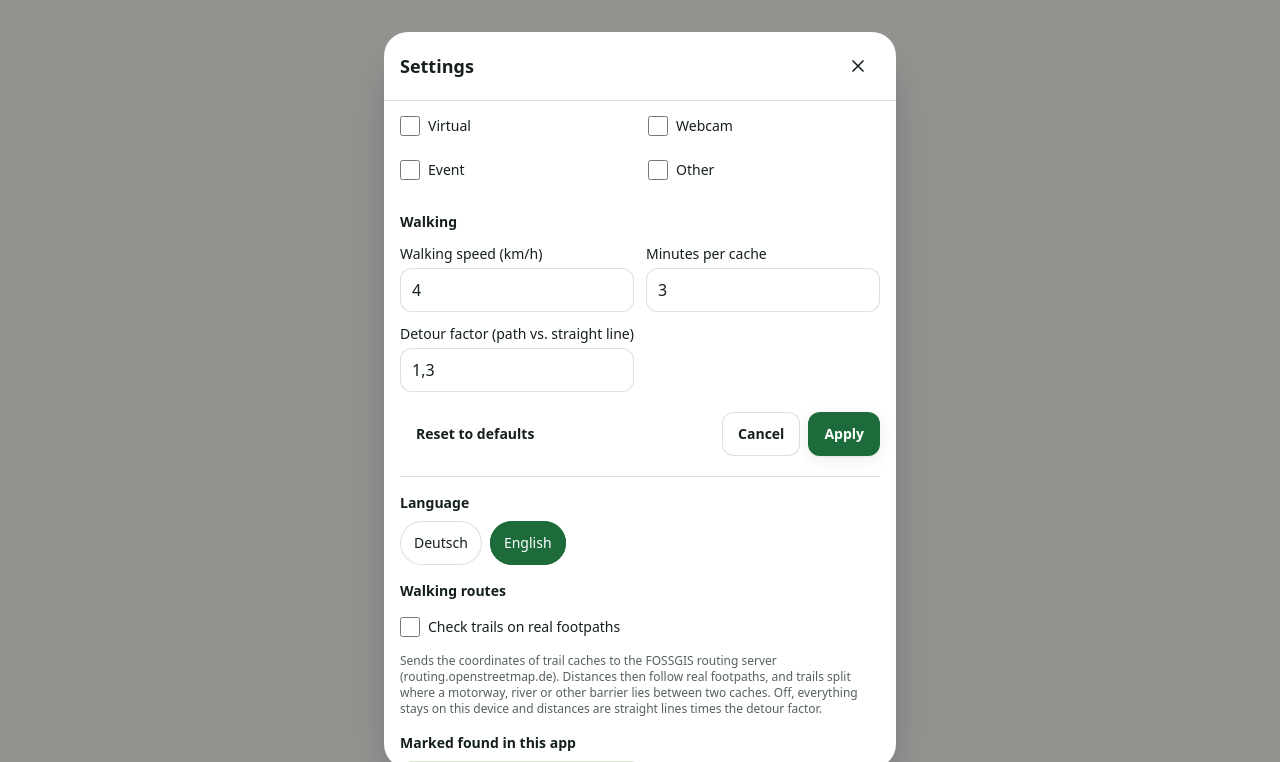
Test: SettingsDialog › resets the draft to the defaults
(page scrolled)
Click the button "Reset to defaults".
click(475, 434)  # box [400,412,550,456]
(page scrolled)
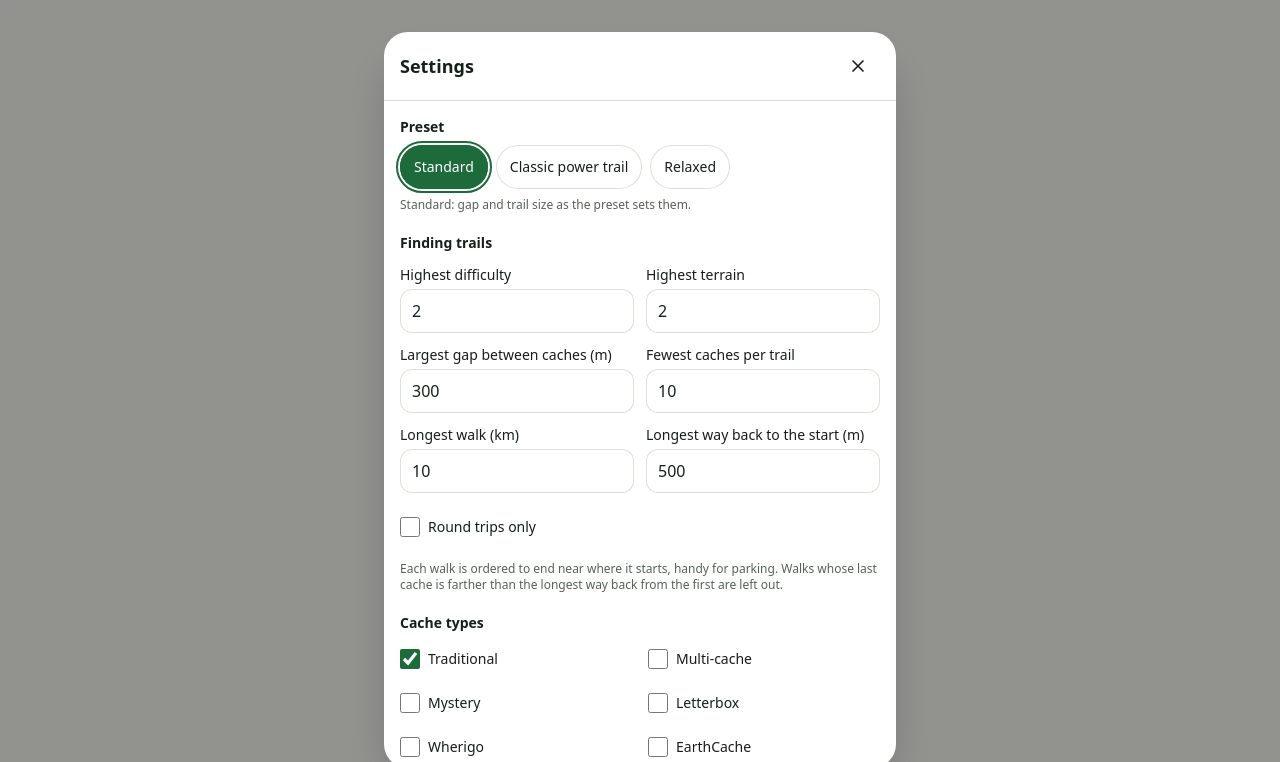
Now the field labelled "Largest gap between caches (m)" holds "300", box [400,369,634,413]
